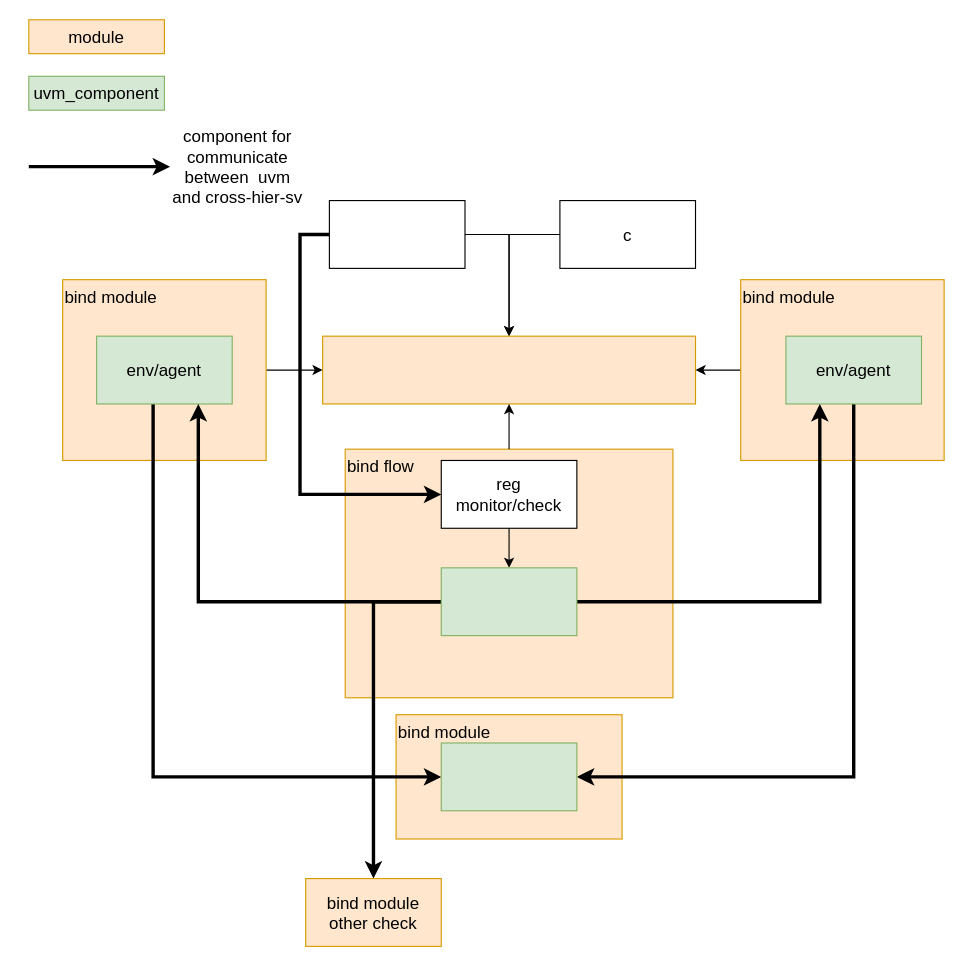
Image size: 964x966. Some labels were removed from this diagram. The shapes that lost their labels are listed below. From the top down, each one's centre as x and y in pixels, then its label:
At (x=396, y=233): "sequence".
At (x=508, y=369): "DUT".
At (x=508, y=601): "flow control".
At (x=508, y=776): "scoreboard".
